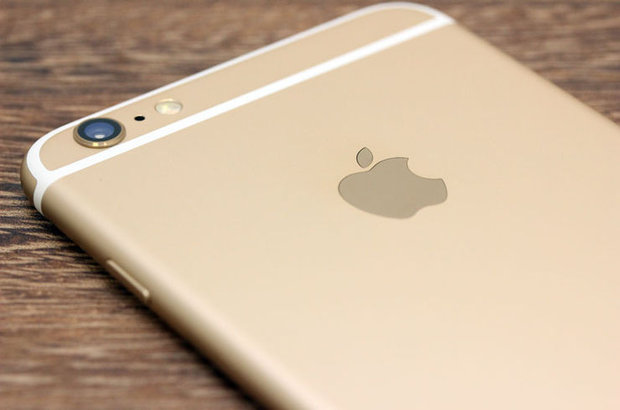apple: (312, 119, 461, 236)
